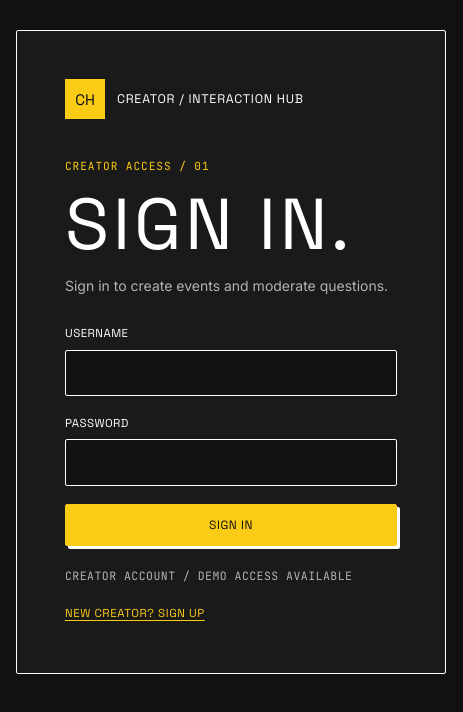
Test case: LoginPage › shows authentication failures without losing the form
Type "streamer" into the field labelled "USERNAME".
click(231, 373); type("streamer")  # box x1=65 y1=350 x2=397 y2=396
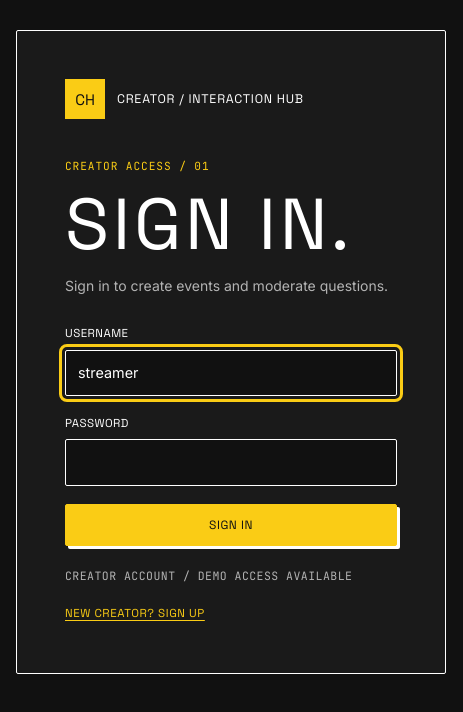
Type "wrong" into the password field labelled "PASSWORD".
click(231, 463); type("wrong")  # box x1=65 y1=440 x2=397 y2=486
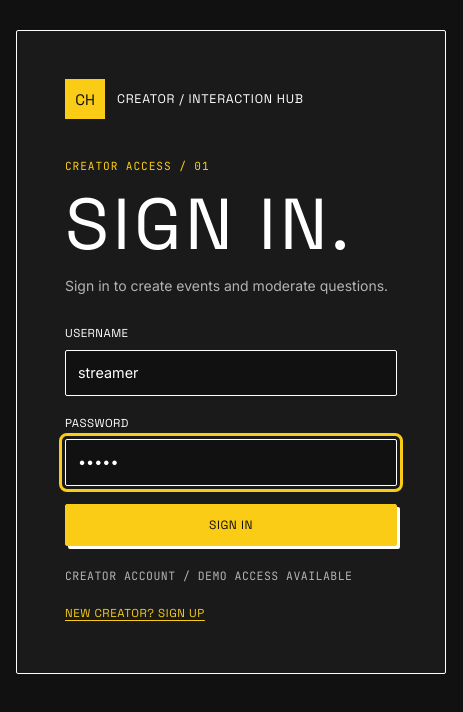
Click the button "SIGN IN".
click(231, 525)  # box x1=65 y1=504 x2=397 y2=546
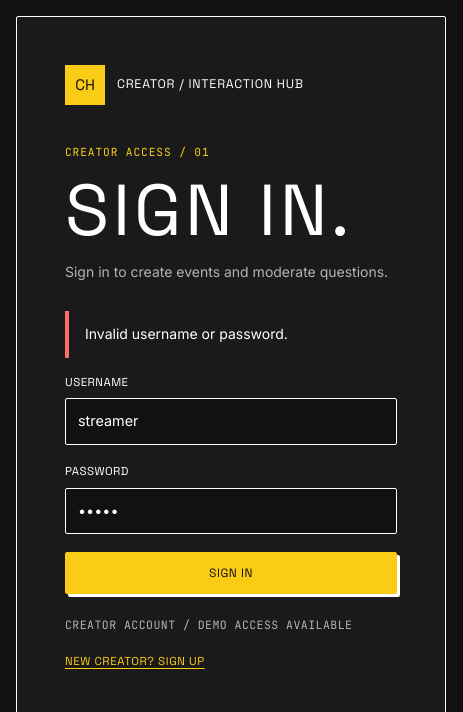
Result: the message reads "Invalid username or password." at x1=85 y1=325 x2=288 y2=342
